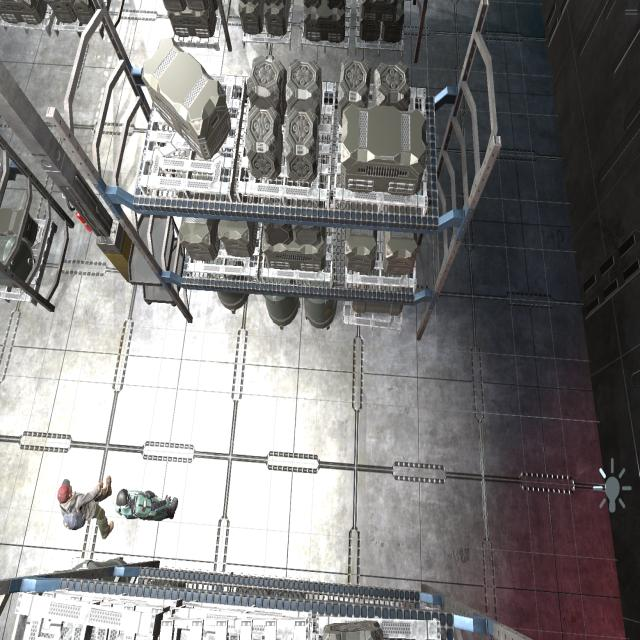thiefs: (55, 470, 114, 544)
